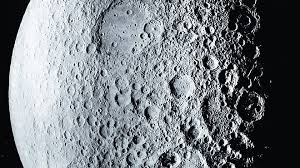crater: (233, 87, 268, 124), (166, 73, 199, 104), (141, 19, 166, 41), (200, 53, 220, 71), (84, 42, 98, 57), (201, 24, 216, 36), (81, 100, 96, 112), (162, 114, 174, 126), (124, 8, 134, 17), (122, 122, 132, 131), (141, 141, 151, 150), (110, 40, 119, 49)
